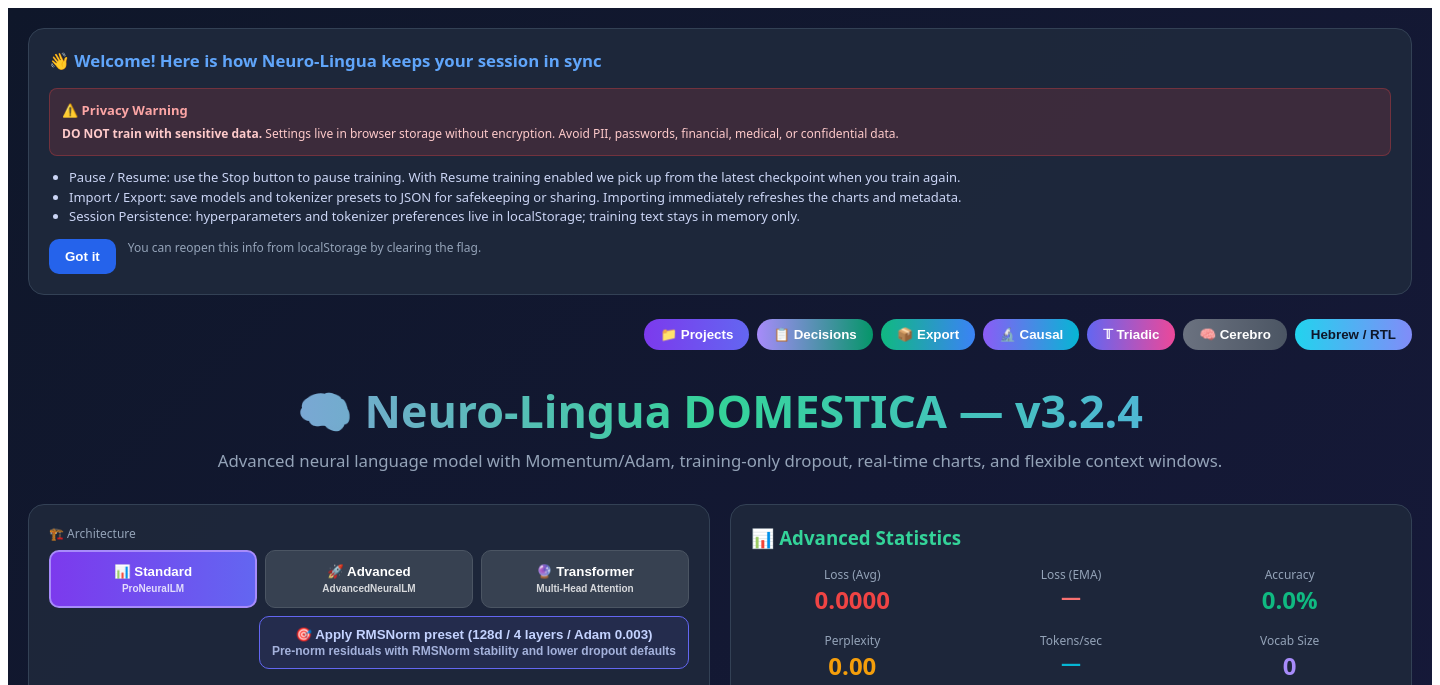
it: Neuro-Lingua App UI › allows onboarding panel dismissal and records preference
Expected: the text "Welcome!" is shown, [49,49,602,72]
Click the button "Got it" at (82, 256), box [49,238,116,274]
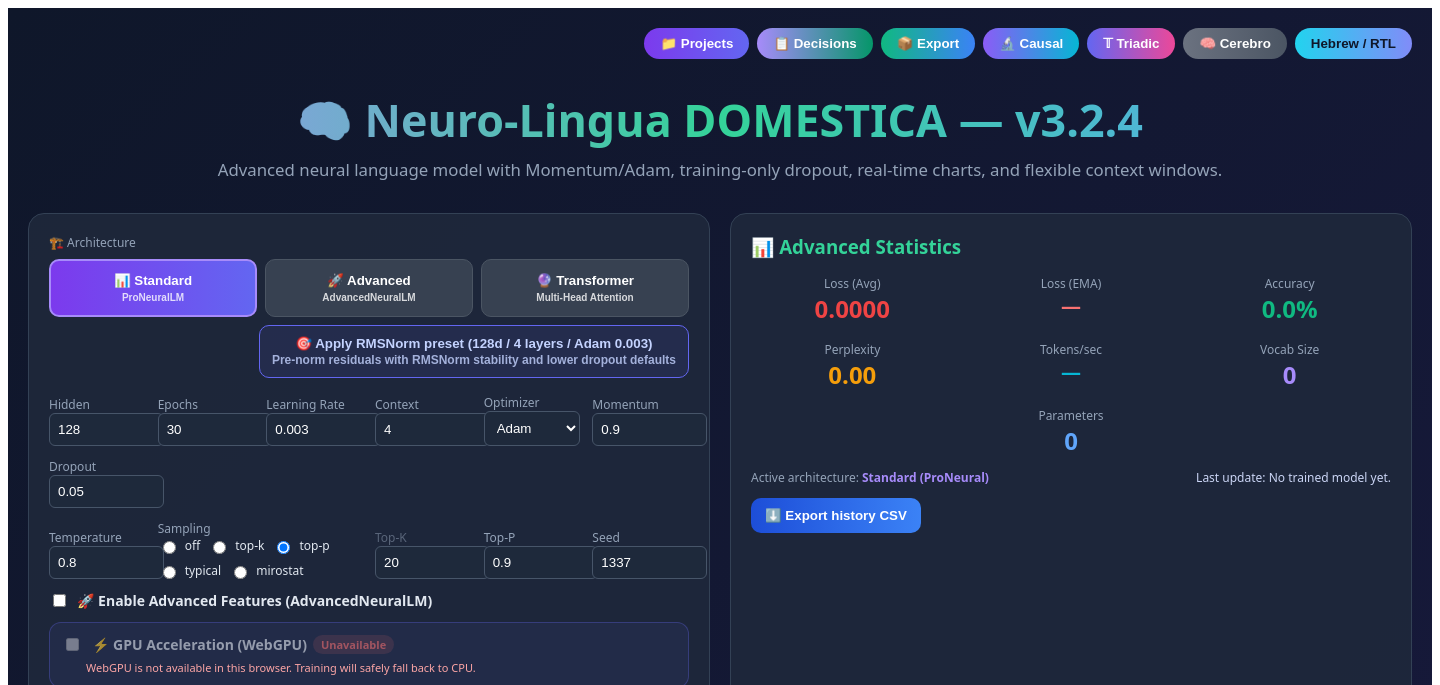
Now the text "Welcome!" is gone
